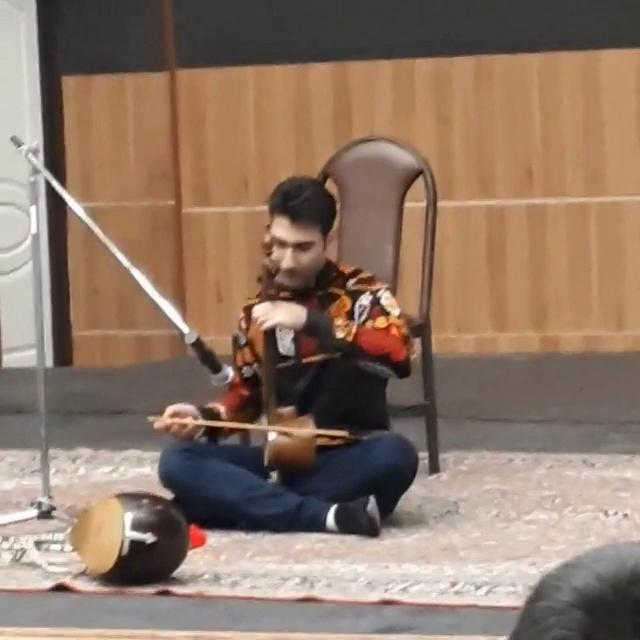Kamanche: (247, 301, 324, 473)
